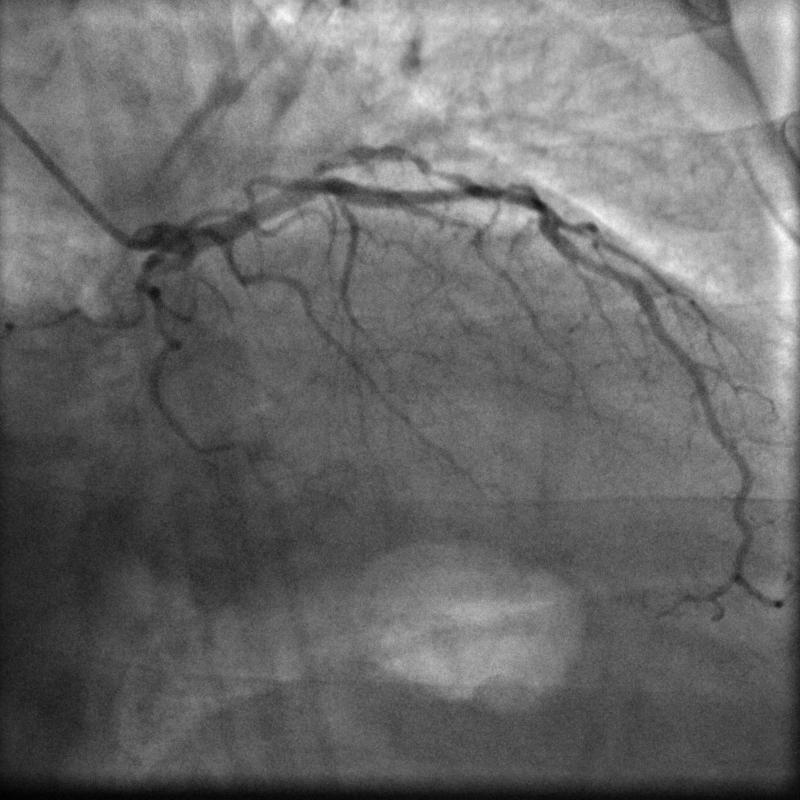Stenosis: (472, 175, 549, 215)
